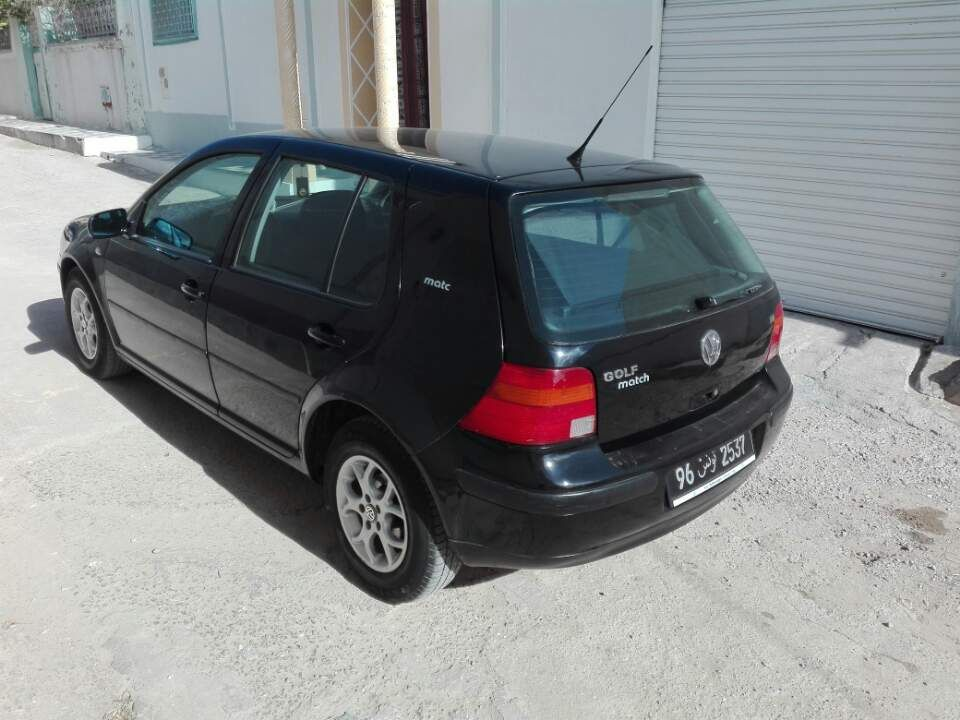LP: (663, 431, 757, 500)
